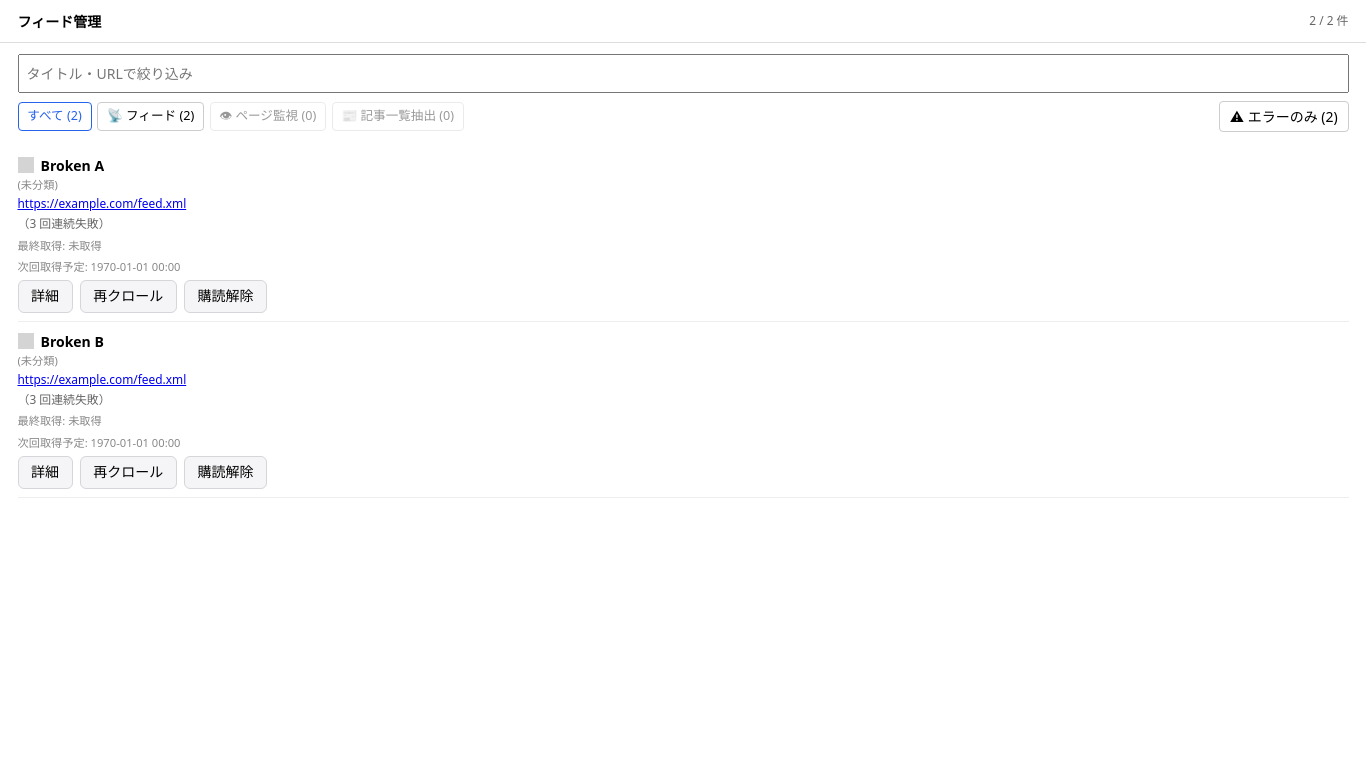
Test: FeedManagerPane error view › resets the error-view filters and selection when toggled off then back on
Click the button "⚠ エラーのみ (2)".
click(1284, 117)  # box [1219,101,1348,132]
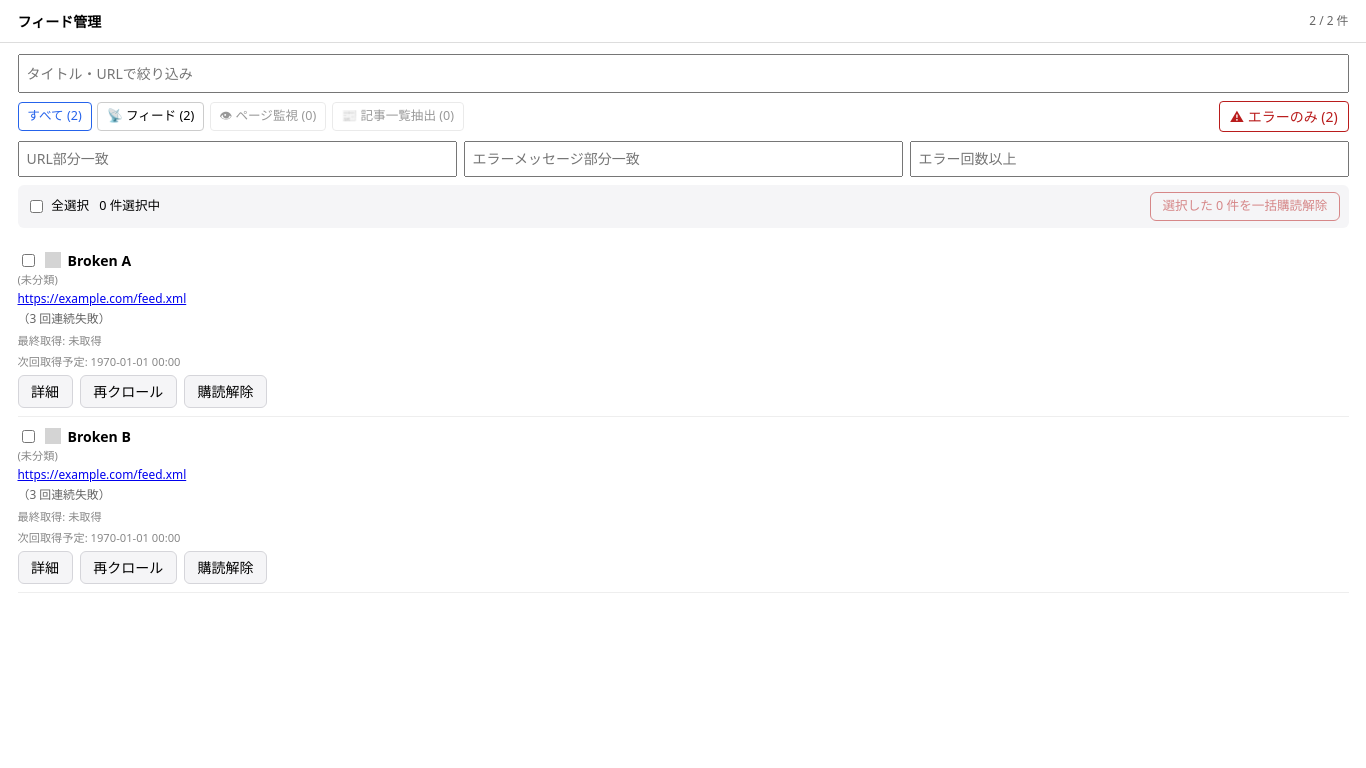
Type "example" into the field with placeholder "URL部分一致".
click(237, 159); type("example")  # box [18,141,456,177]
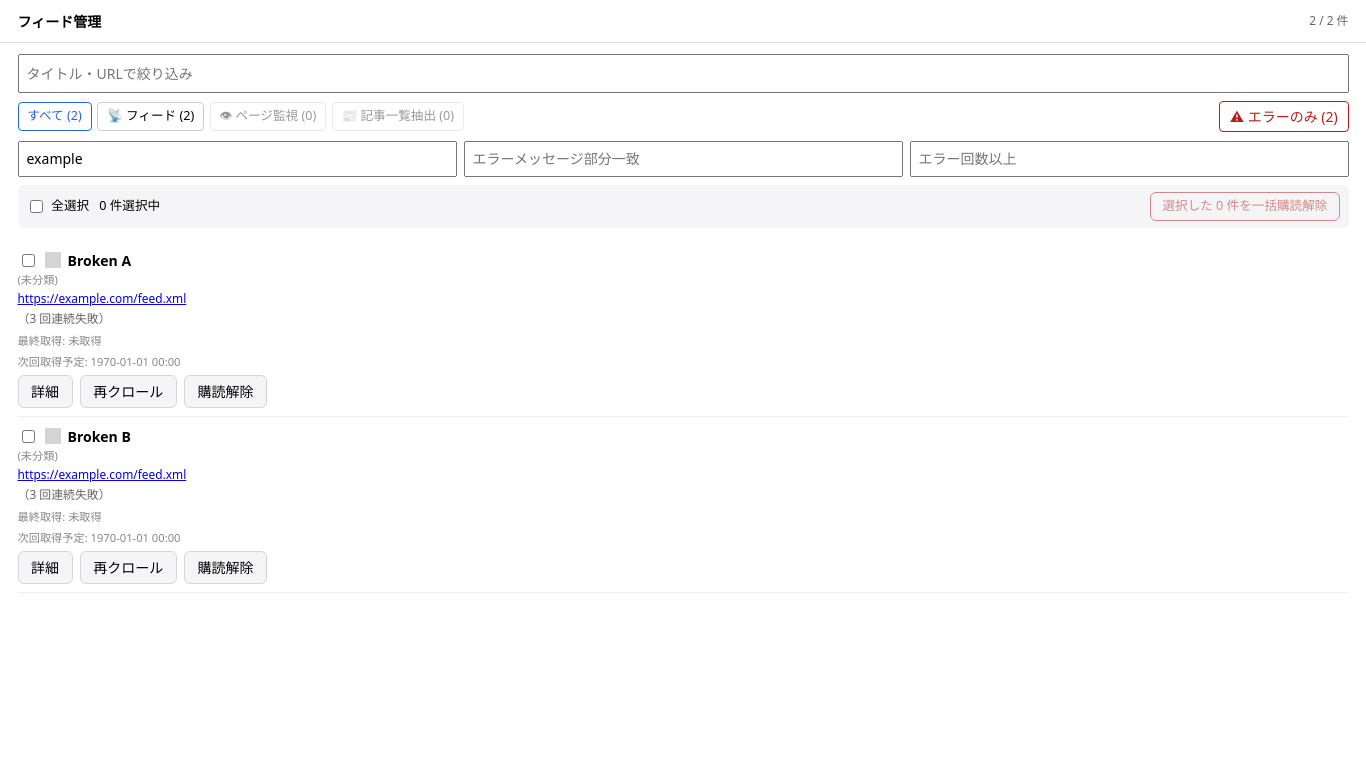
Click the checkbox next to "Broken A".
click(28, 260)  # box [22,254,34,267]
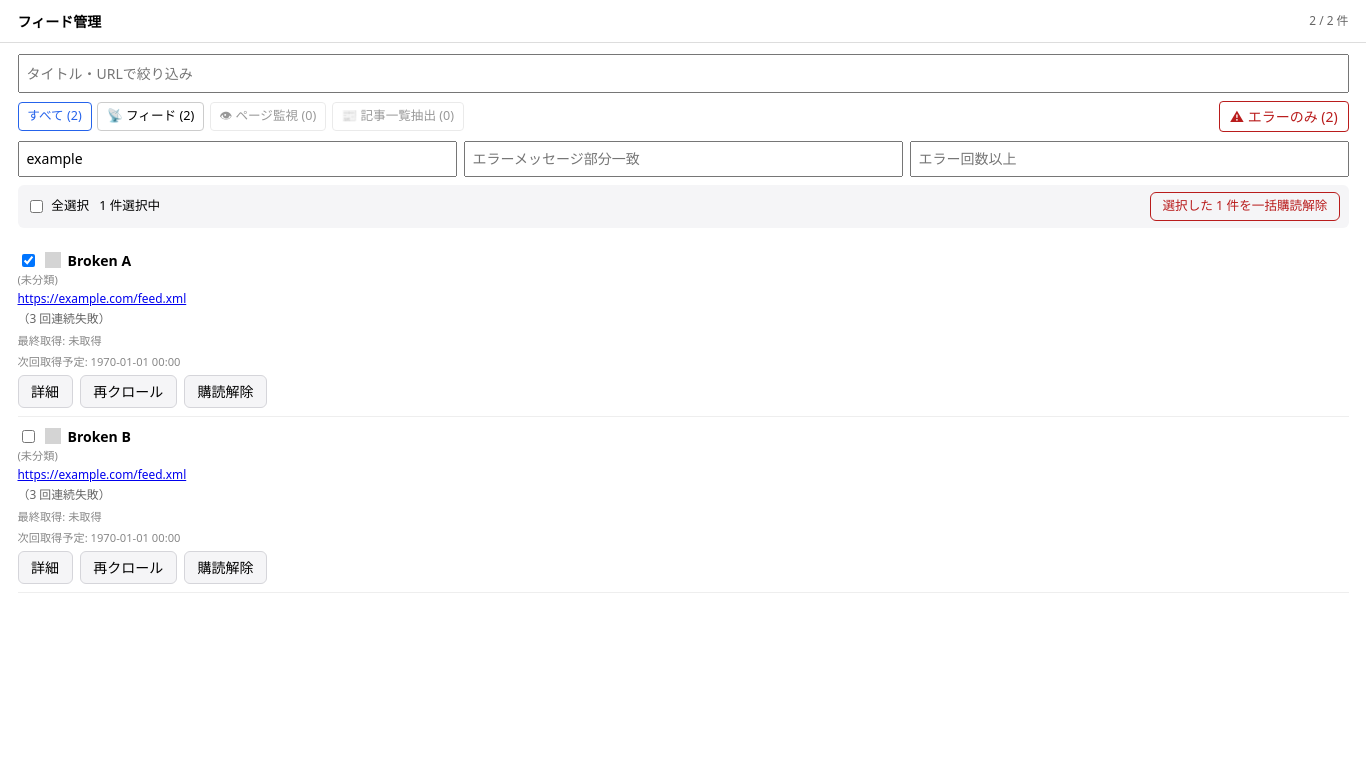
Expected: the text "1 件選択中" is shown, [99,197,160,216]
Click the button "⚠ エラーのみ (2)".
click(1284, 117)  # box [1219,101,1348,132]
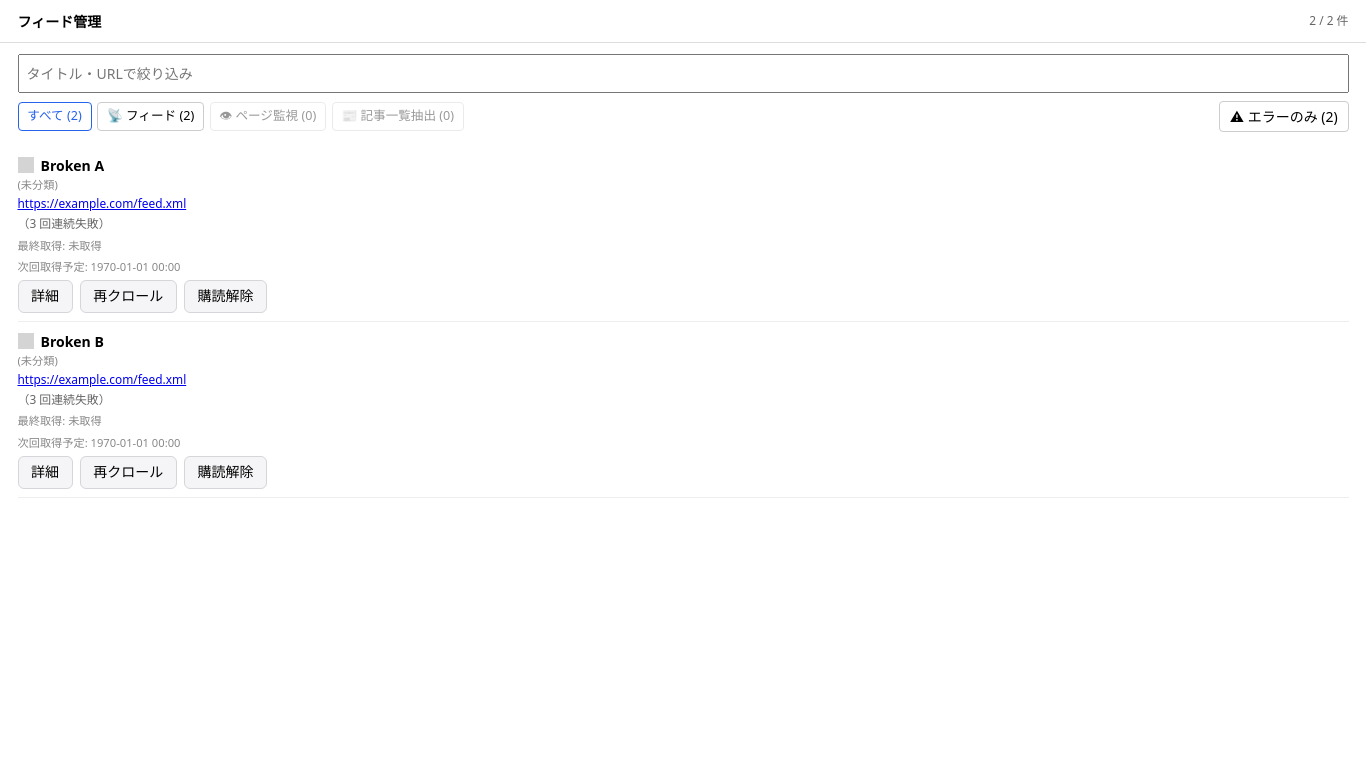
Click the button "⚠ エラーのみ (2)".
click(1284, 117)  # box [1219,101,1348,132]
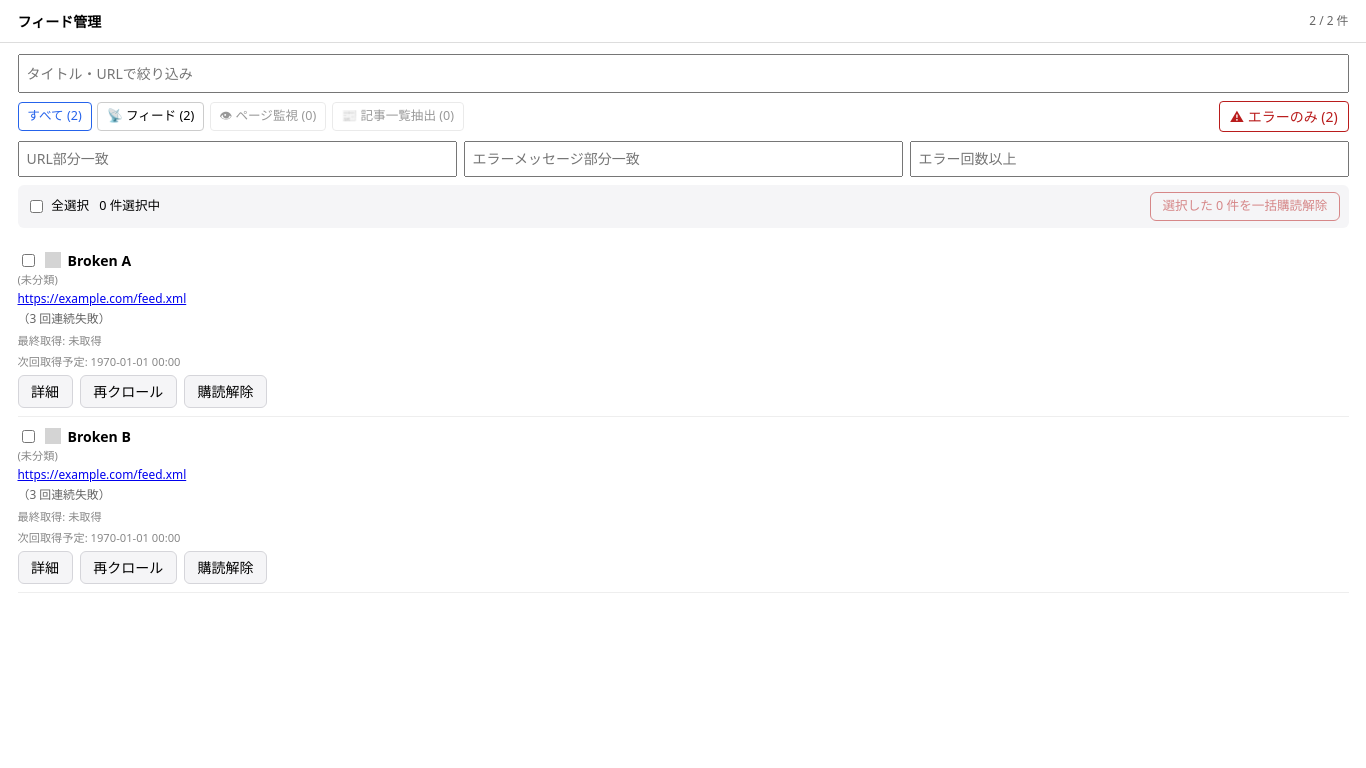
Expected: the number of list items is 2, [18,242,1348,418]; [18,418,1348,594]
Expected: the field with placeholder "URL部分一致" is empty, [18,141,456,177]
Expected: the text "0 件選択中" is shown, [99,197,160,216]
